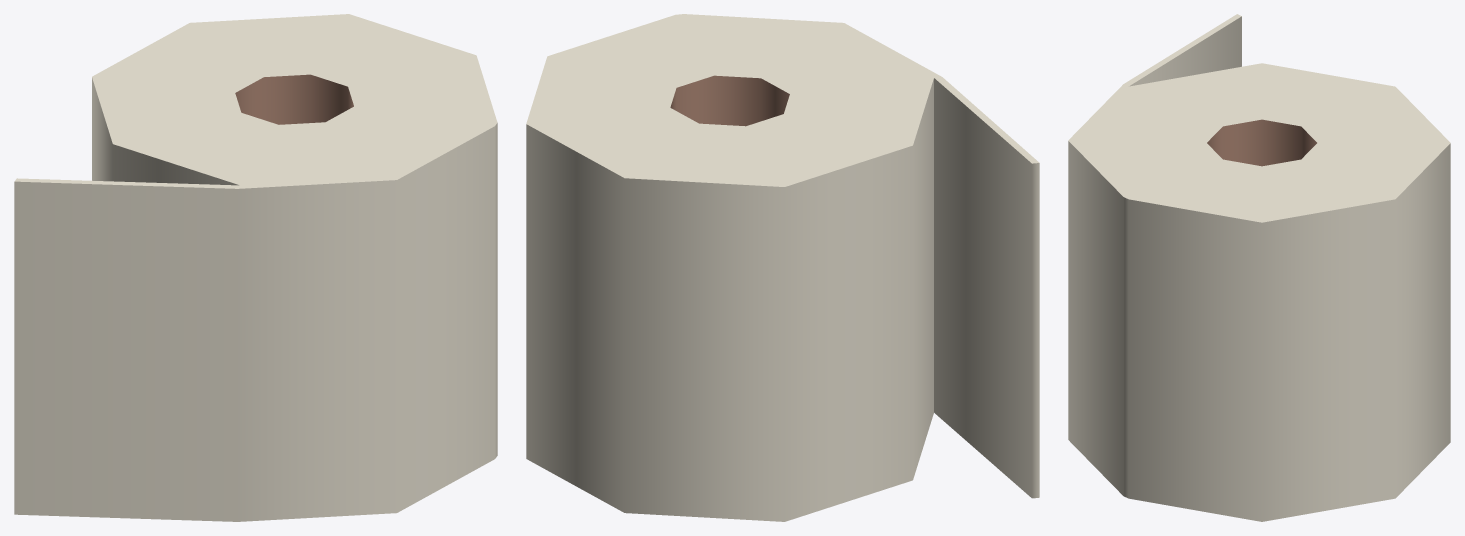
The model's file is toilet_paper.fbx.
3 views of the same model, side by side, from view 1: azimuth 30°, elevation 25°; view 2: azimuth 150°, elevation 25°; view 3: azimuth 270°, elevation 25° (orthographic). The views are drawn at different scales.
Visible parts, largest first — view 1: Paper_Toilet; view 2: Paper_Toilet; view 3: Paper_Toilet.
Boxes of the visible parts, x1,y1,x2,y2 form: Paper_Toilet: (14,14,497,521); Paper_Toilet: (526,14,1039,521); Paper_Toilet: (1068,14,1450,521).
Bounding box in the file's own units: 16.22 × 20.94 × 14.
